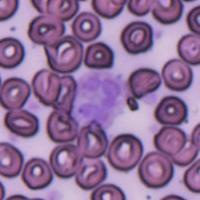N: (74, 70, 131, 129)
